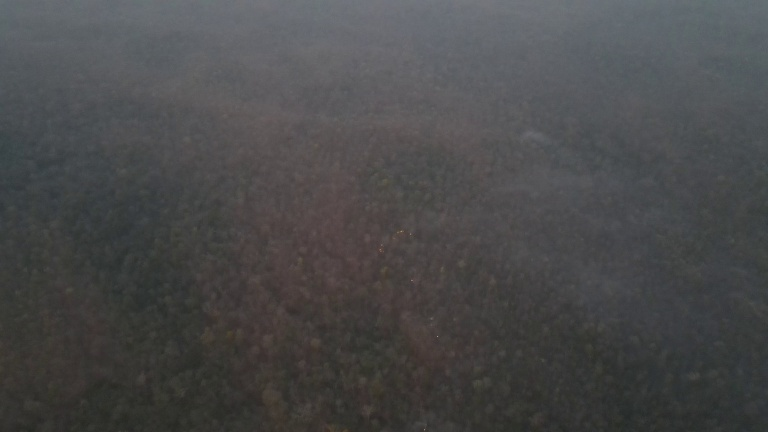fire: (370, 225, 416, 260), (432, 335, 441, 342), (403, 282, 412, 286)
smoke: (504, 120, 562, 156)
